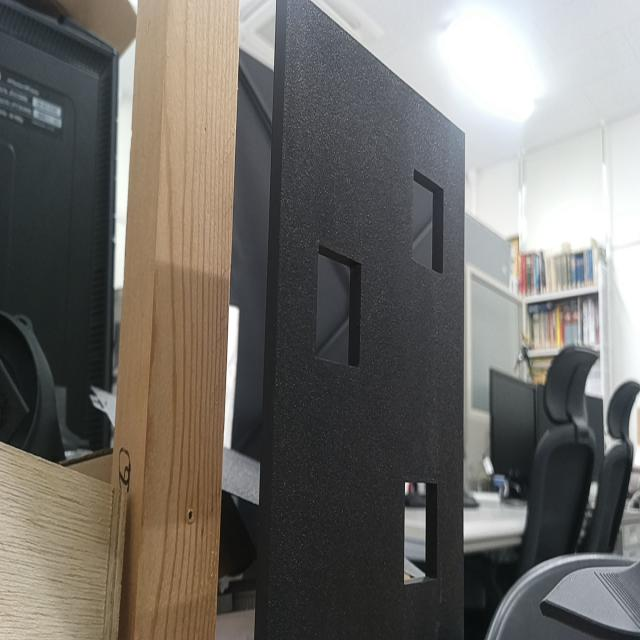Obstacle: (316, 243, 363, 366), (412, 165, 444, 273), (404, 484, 437, 582)
Wall: (271, 0, 466, 639)
